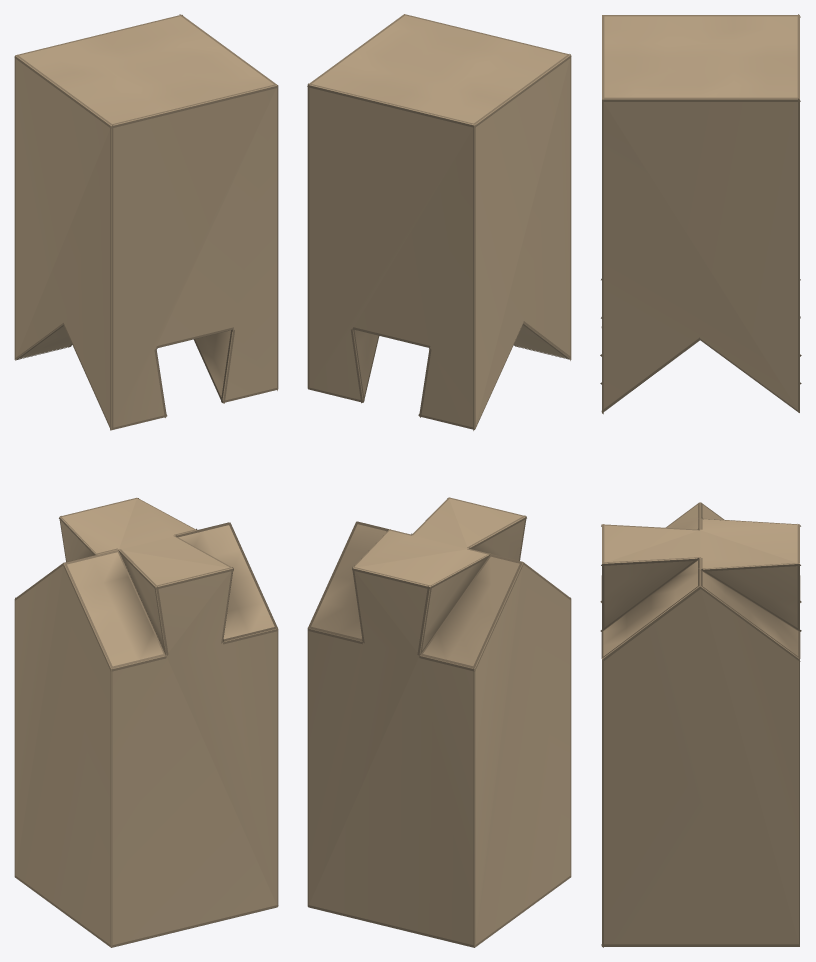
The model's file is osaka-jo-otemon-hikae-bashira-tsugi.glb.
3 views of the same model, side by side, from view 1: azimuth 30°, elevation 25°; view 2: azimuth 150°, elevation 25°; view 3: azimuth 270°, elevation 25° (orthographic). The views are drawn at different scales.
Parts seen in each view (by area): view 1: part-a, part-b; view 2: part-a, part-b; view 3: part-a, part-b.
Part boxes in pixels (x1,y1,x2,y2): part-a: (14, 497, 278, 947); part-b: (14, 14, 278, 430); part-a: (307, 497, 571, 947); part-b: (307, 14, 571, 430); part-a: (600, 502, 801, 947); part-b: (600, 14, 801, 414).
Size of the model in its own units: 0.1208 by 0.5682 by 0.1224.
